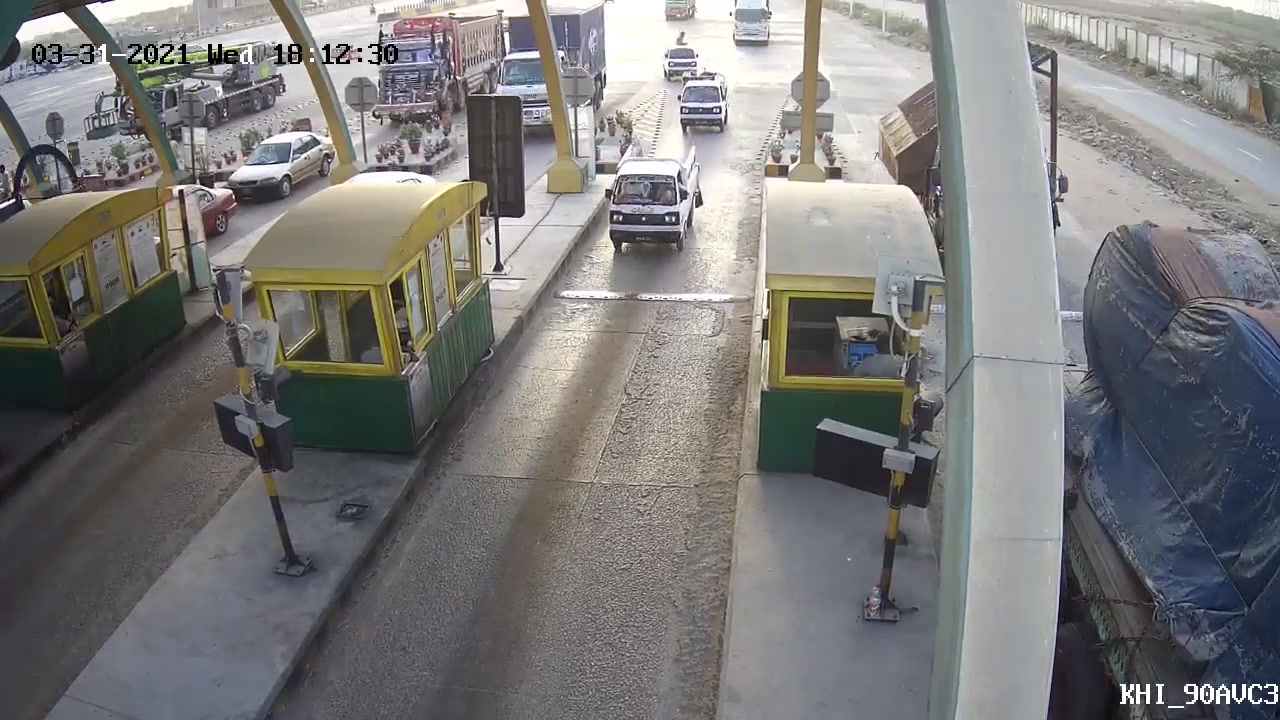F2: (598, 142, 706, 253)
